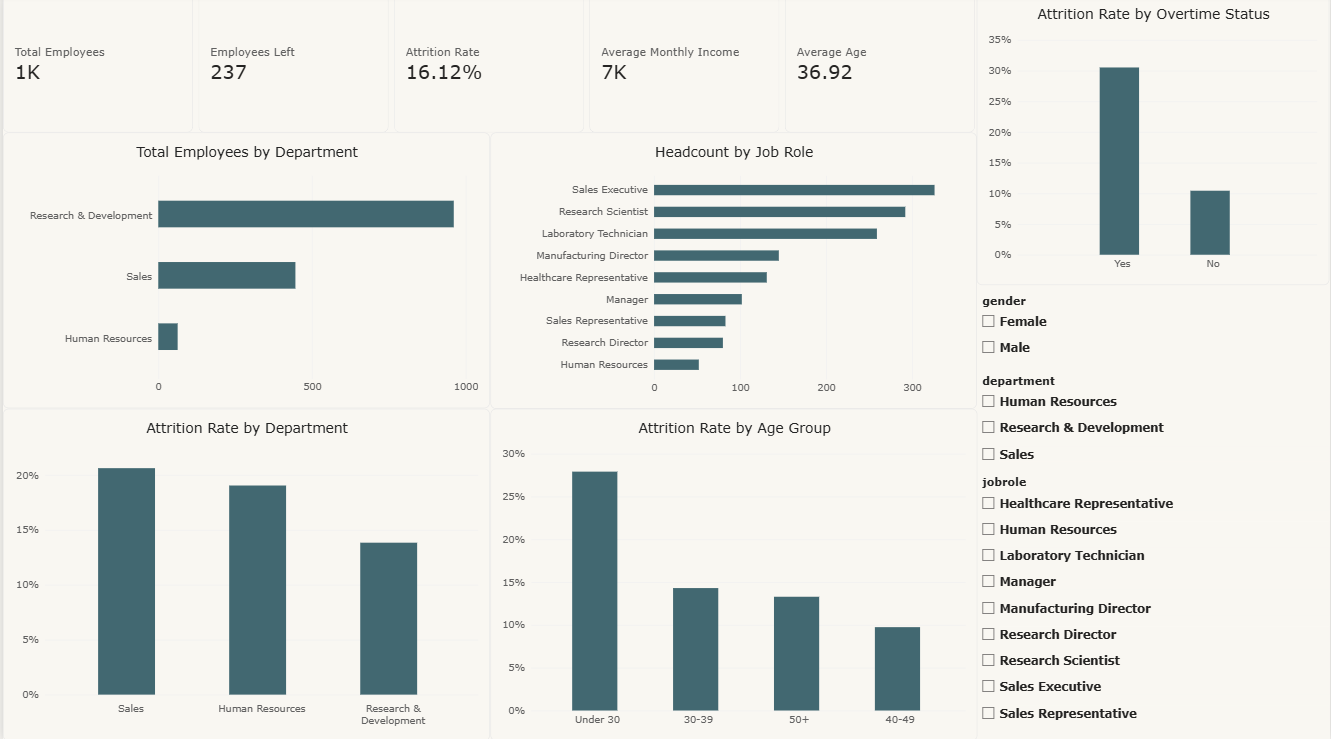

What the dashboard file says about the page in this screenshot:
{"tool":"powerbi","page":{"name":"HR Overview","canvas":[1920,1080],"ordinal":0},"visuals":[{"type":"cardVisual","fields":{"Data":["employees.Total Employees","employees.Employees Left","employees.Attrition Rate","employees.Average Monthly Income","employees.Average Age"]},"box":[0,0,1410.3,199.5],"z":0},{"type":"clusteredBarChart","title":"Total Employees by Department","fields":{"Category":["employees.department"],"Y":["employees.Total Employees"]},"box":[0,199.5,705.2,399.1],"z":1000},{"type":"clusteredColumnChart","title":"Attrition Rate by Department","fields":{"Category":["employees.department"],"Y":["employees.Attrition Rate"]},"box":[0,598.6,705.2,480.7],"z":2000},{"type":"clusteredBarChart","title":"Headcount by Job Role","fields":{"Category":["employees.jobrole"],"Y":["employees.Total Employees"]},"box":[705.8,199.1,704,399.9],"z":3000},{"type":"clusteredColumnChart","title":"Attrition Rate by Overtime Status","fields":{"Y":["employees.Attrition Rate"],"Category":["employees.overtime"]},"box":[1409.7,0,510.3,419.8],"z":4000},{"type":"clusteredColumnChart","title":"Attrition Rate by Age Group","fields":{"Category":["employees.Age Group"],"Y":["employees.Attrition Rate"]},"box":[705.2,598.6,705.2,480.7],"z":5000},{"type":"slicer","fields":{"Values":["employees.department"]},"box":[1409.7,548.3,510.3,146.6],"z":6000},{"type":"slicer","fields":{"Values":["employees.gender"]},"box":[1409.7,432.5,510.3,106.8],"z":7000},{"type":"slicer","fields":{"Values":["employees.jobrole"]},"box":[1409.7,694.9,510.3,385.5],"z":8000}]}

Visuals, with their boxes in screenshot pixels (x1, y1, x2, y2), scaled from the page's 1920x1080 canvas onto the 1331x739 screenshot:
cardVisual - employees.Total Employees x employees.Employees Left: [0,0,978,137]
"Total Employees by Department" clusteredBarChart: [0,137,489,410]
"Attrition Rate by Department" clusteredColumnChart: [0,410,489,738]
"Headcount by Job Role" clusteredBarChart: [489,136,977,410]
"Attrition Rate by Overtime Status" clusteredColumnChart: [977,0,1330,287]
"Attrition Rate by Age Group" clusteredColumnChart: [489,410,978,738]
slicer - employees.department: [977,375,1330,475]
slicer - employees.gender: [977,296,1330,369]
slicer - employees.jobrole: [977,475,1330,738]
